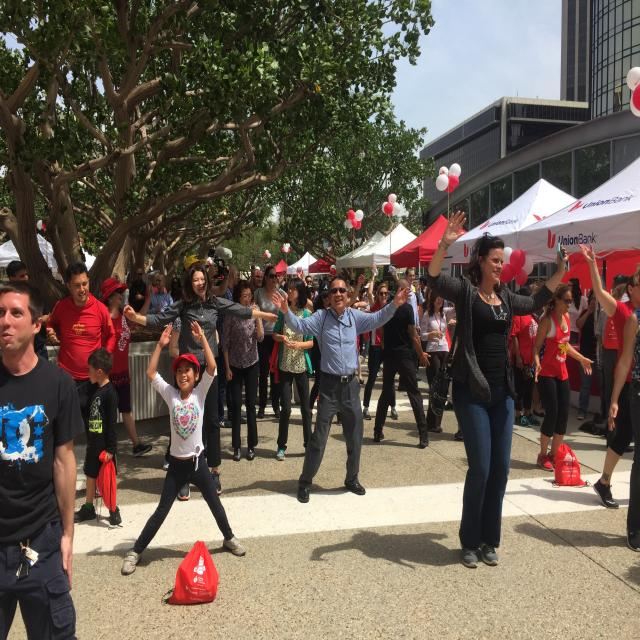body: (422, 206, 571, 573), (121, 261, 279, 505), (109, 398, 443, 507), (117, 316, 249, 578), (270, 275, 413, 506), (0, 276, 85, 639), (86, 518, 476, 578), (577, 241, 640, 510), (45, 260, 117, 444), (531, 278, 597, 474), (500, 477, 636, 567), (296, 274, 367, 428), (100, 276, 155, 459), (373, 278, 431, 448), (73, 346, 123, 526), (220, 279, 267, 465), (270, 277, 317, 462), (605, 269, 640, 512), (250, 263, 292, 421), (594, 268, 630, 435), (362, 263, 400, 421), (419, 290, 456, 434), (217, 262, 248, 428), (5, 259, 52, 365), (509, 284, 542, 428), (575, 288, 605, 419), (345, 277, 370, 367), (346, 286, 368, 386), (180, 253, 230, 296), (404, 266, 422, 382), (561, 277, 590, 344), (358, 282, 374, 363), (146, 274, 174, 314), (298, 274, 335, 304), (418, 284, 432, 353), (442, 299, 459, 355), (128, 267, 147, 313), (528, 278, 543, 320), (249, 268, 263, 306), (371, 283, 396, 304), (533, 385, 546, 420), (414, 274, 428, 306), (171, 276, 184, 302), (279, 280, 292, 296), (235, 274, 242, 284), (375, 372, 380, 382)
